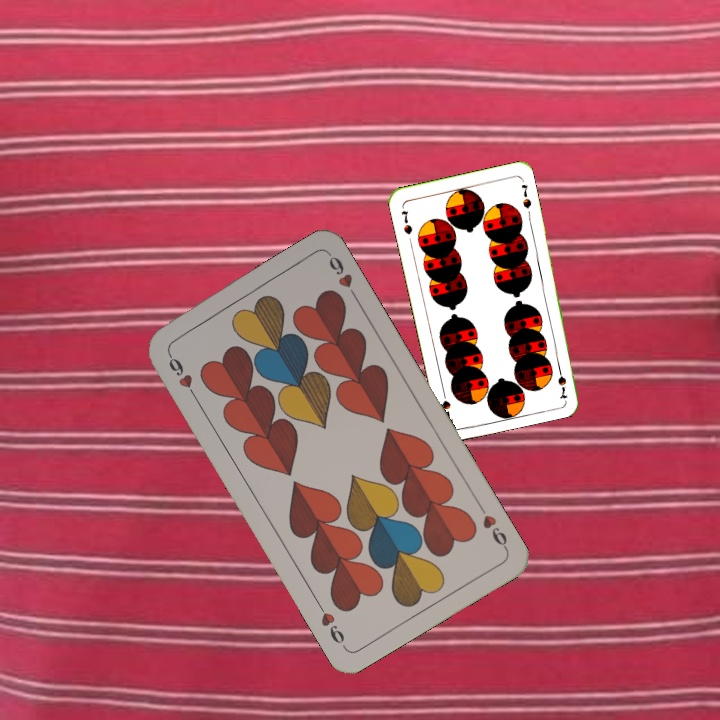H9: (474, 500, 511, 553), (163, 348, 200, 401)
S7: (554, 361, 570, 401), (397, 206, 415, 237)
